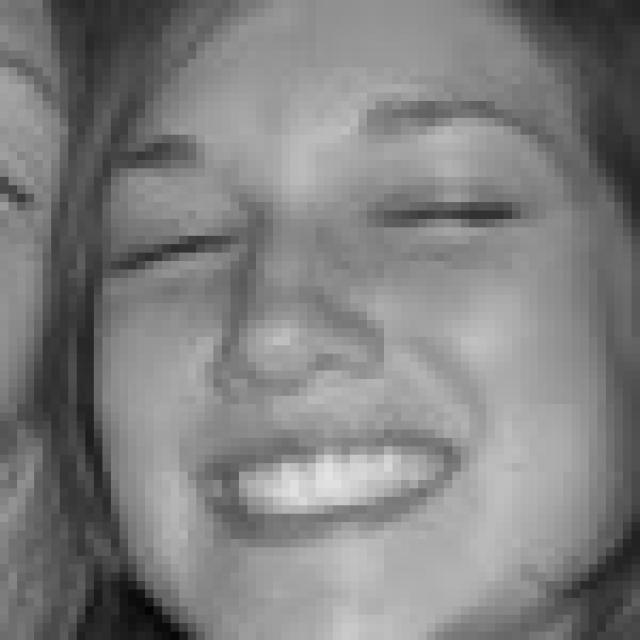real: (88, 0, 638, 634), (108, 177, 528, 291)
